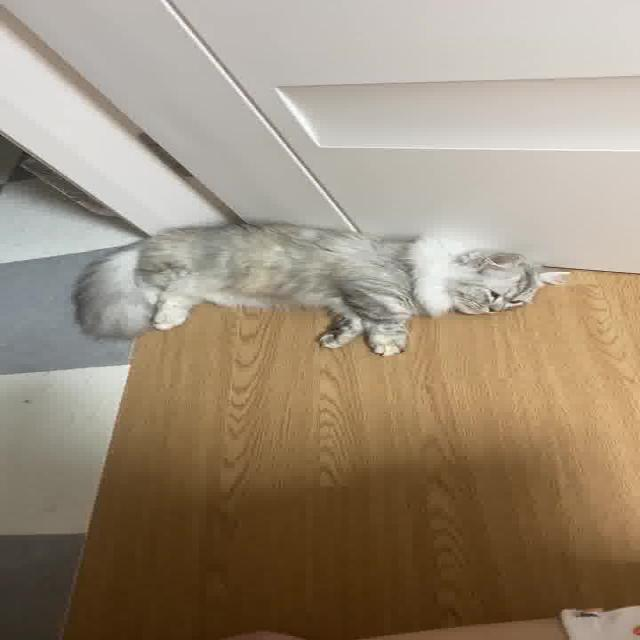cat: (43, 199, 600, 368)
